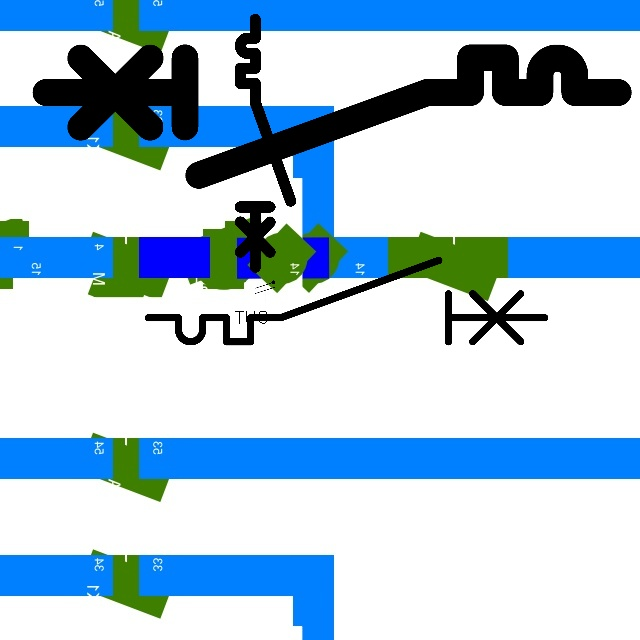interruptor_termomagnetico: (31, 43, 633, 190), (138, 250, 555, 352), (234, 13, 297, 273)
